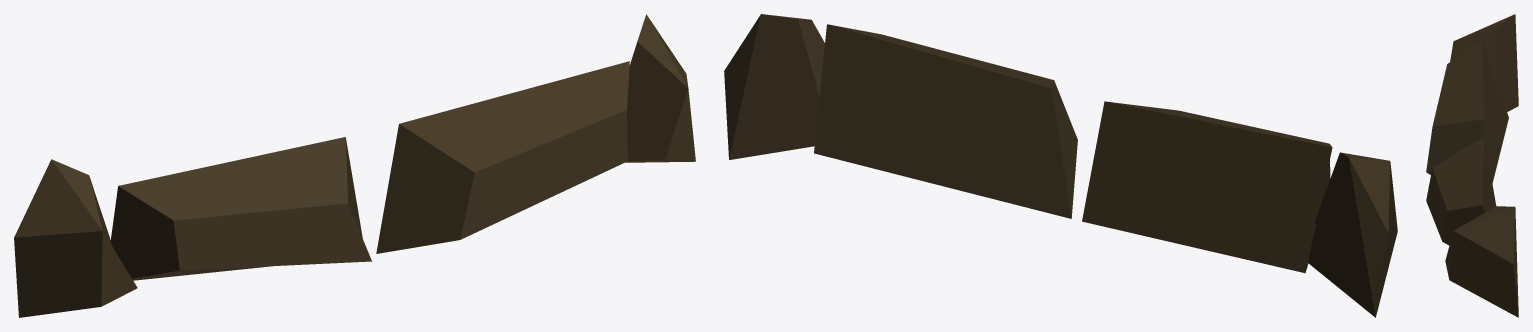
File: Chr_Eyebrow_Male_09_Static.fbx
3 views of the same model, side by side, from view 1: azimuth 30°, elevation 25°; view 2: azimuth 150°, elevation 25°; view 3: azimuth 270°, elevation 25° (orthographic). The views are drawn at different scales.
Parts seen in each view (by area): view 1: Chr_Eyebrow_Male_09_Static; view 2: Chr_Eyebrow_Male_09_Static; view 3: Chr_Eyebrow_Male_09_Static.
Part boxes in pixels (x1,y1,x2,y2): Chr_Eyebrow_Male_09_Static: (14,14,695,317); Chr_Eyebrow_Male_09_Static: (724,14,1397,317); Chr_Eyebrow_Male_09_Static: (1426,14,1518,317).
Size of the model in its own units: 0.176 by 0.0384 by 0.0317.
